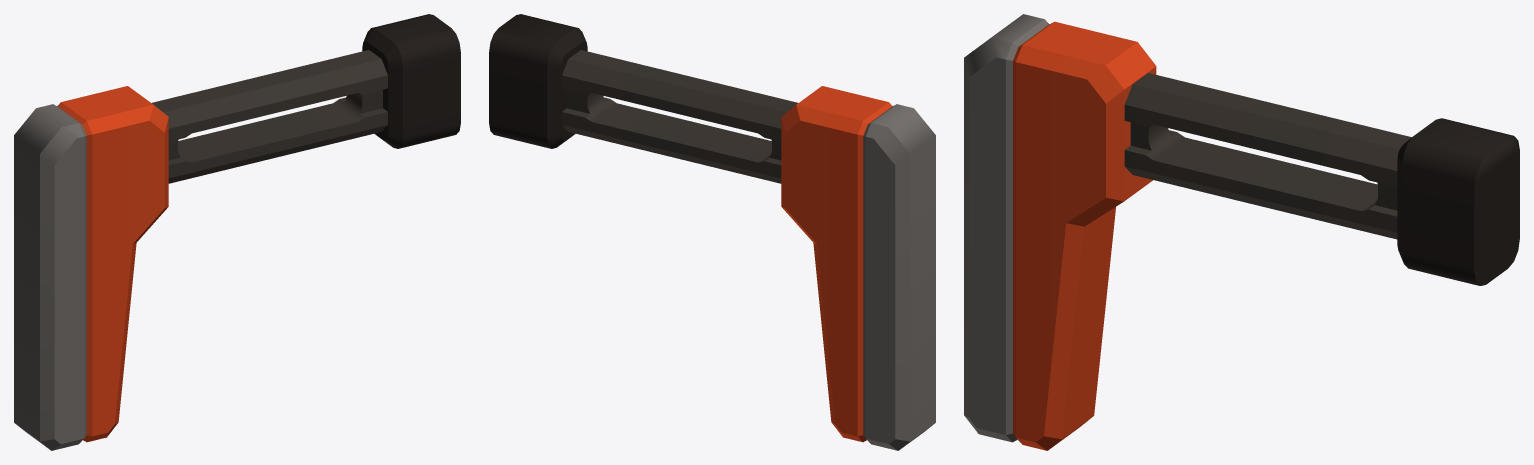
File: SMG6_ButtstockLight.fbx
The picture shows the model from 3 angles, left to right: view 1: azimuth 30°, elevation 25°; view 2: azimuth 150°, elevation 25°; view 3: azimuth 330°, elevation 25°; orthographic projection. The views are drawn at different scales.
Visible parts, largest first — view 1: SMG6_ButtstockLight; view 2: SMG6_ButtstockLight; view 3: SMG6_ButtstockLight.
Boxes of the visible parts, x1,y1,x2,y2 form: SMG6_ButtstockLight: (14,14,460,450); SMG6_ButtstockLight: (489,14,935,450); SMG6_ButtstockLight: (964,14,1519,450).
Size of the model in its own units: 16.74 by 12.37 by 2.55.
